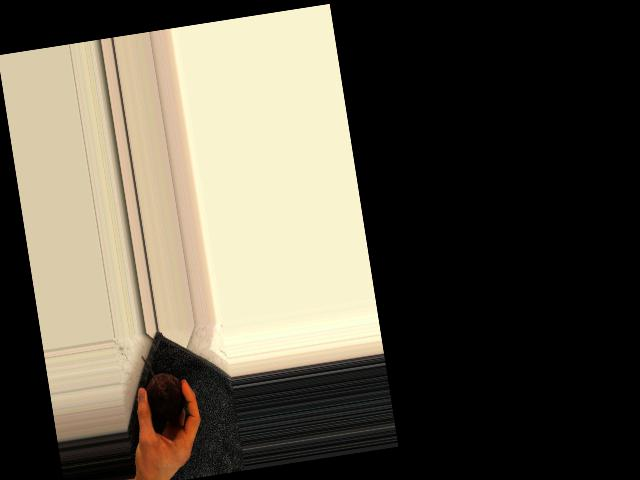beet: (140, 350, 187, 423)
